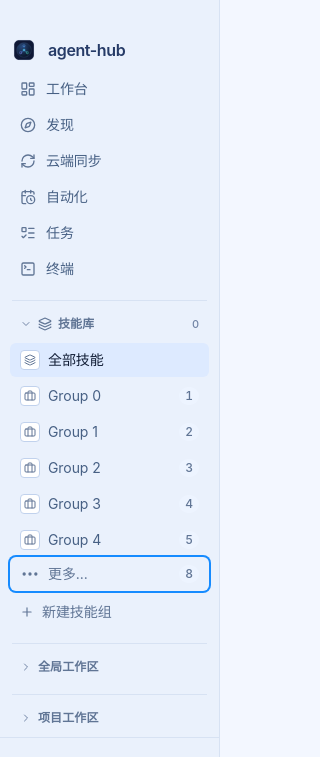
Test: expands the same sidebar list and collapses it with focus preserved in zh
What coordinates should you click on to do the following:
click the button "更多... 8"
I would click on:
 (110, 574)
Its box is left=10, top=557, right=209, bottom=591.
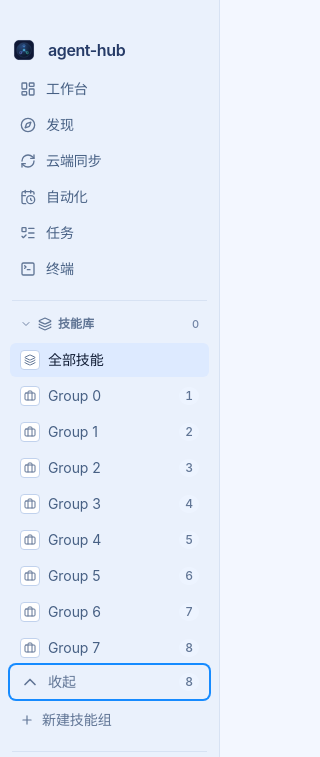
Expected: the button "收起 8" is expanded
What coordinates should you click on to do the following:
click the button "收起 8"
I would click on:
 (110, 682)
Its box is left=10, top=665, right=209, bottom=699.
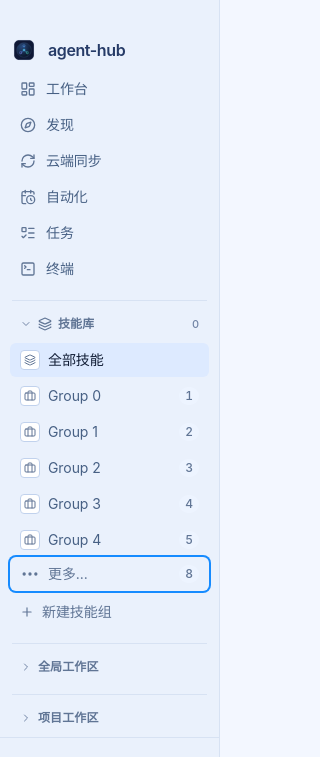
Expected: the button "更多... 8" is collapsed, left=10, top=557, right=209, bottom=591
